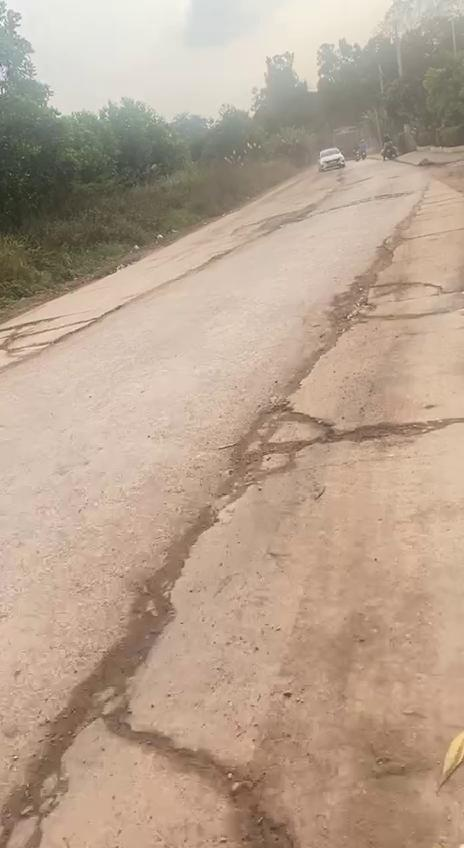pothole: (224, 388, 339, 494), (340, 414, 457, 446)
